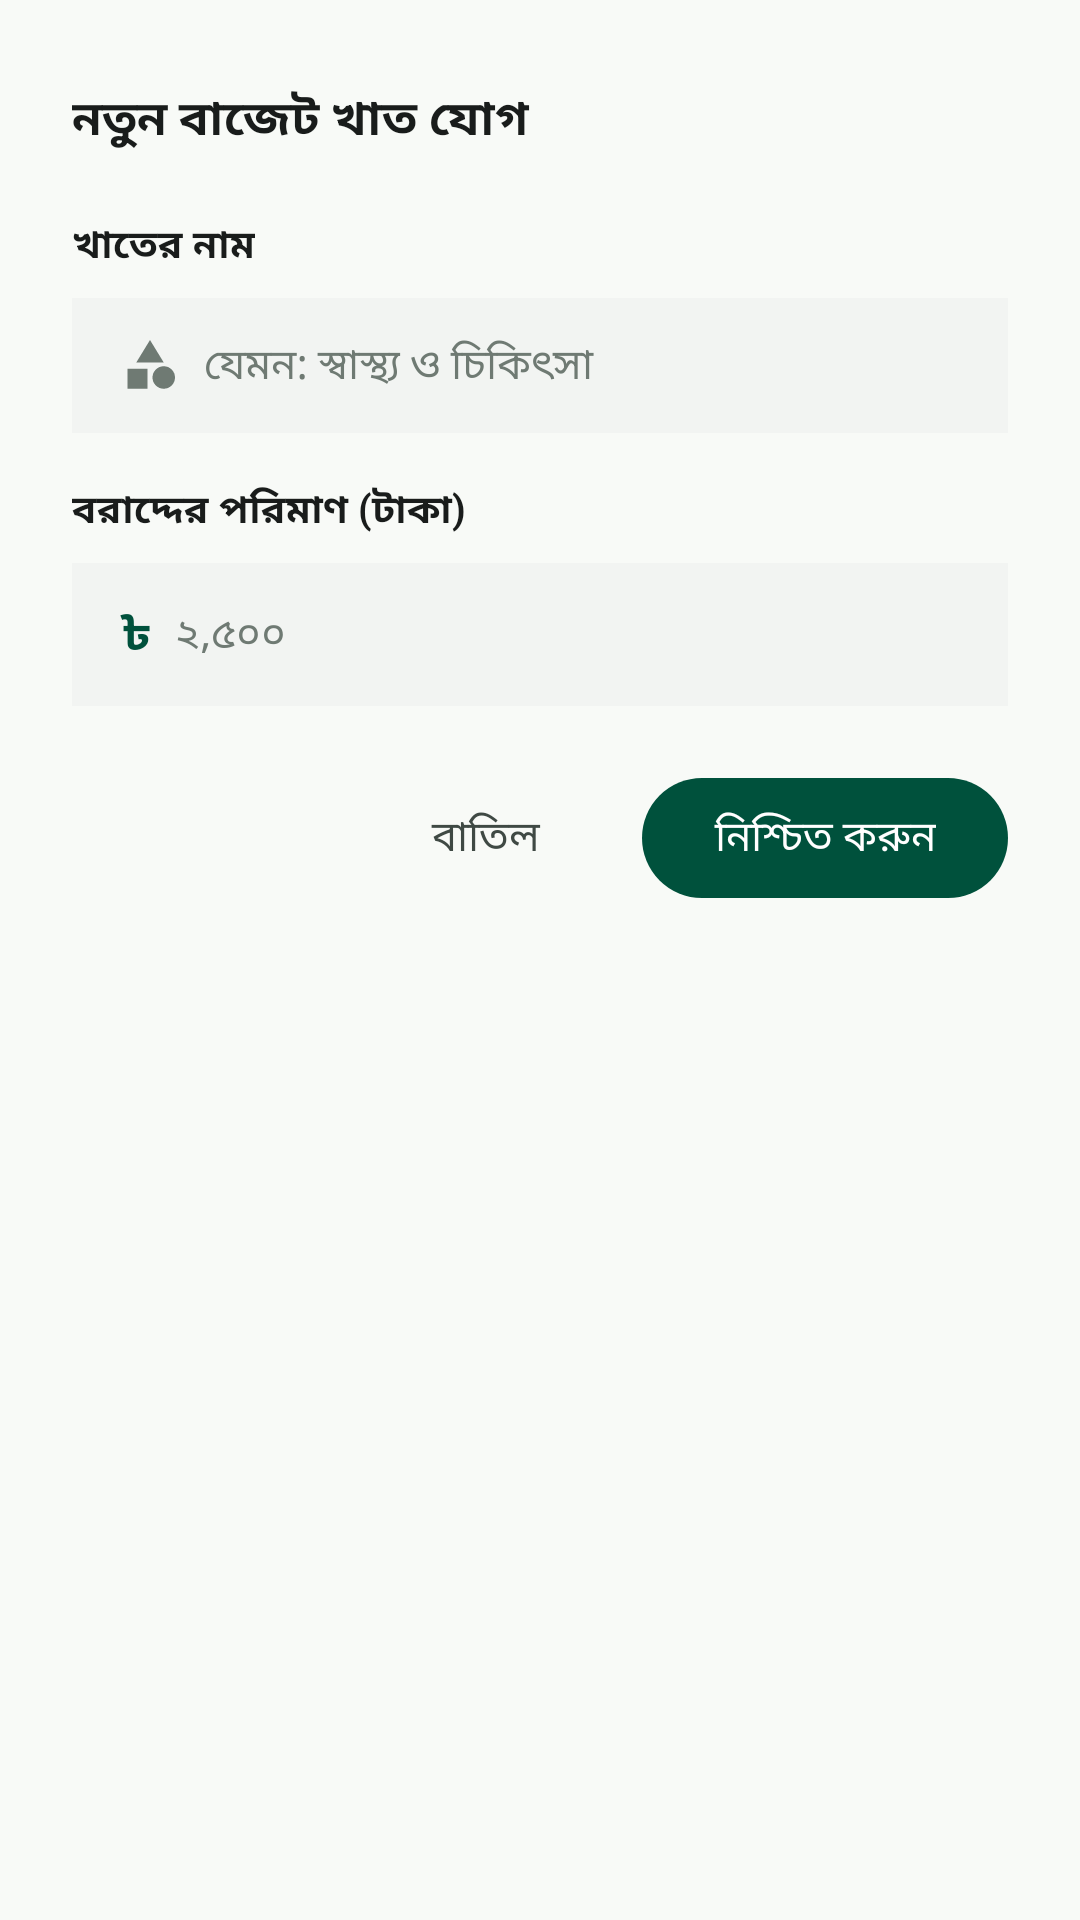

Icon click points for this 1080×1920 phone screenshot, format (x=x, y=y):
category: (x=151, y=364)
